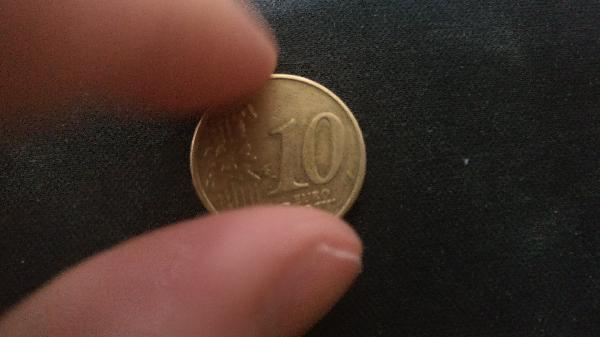Ten Cent: (192, 70, 372, 234)
